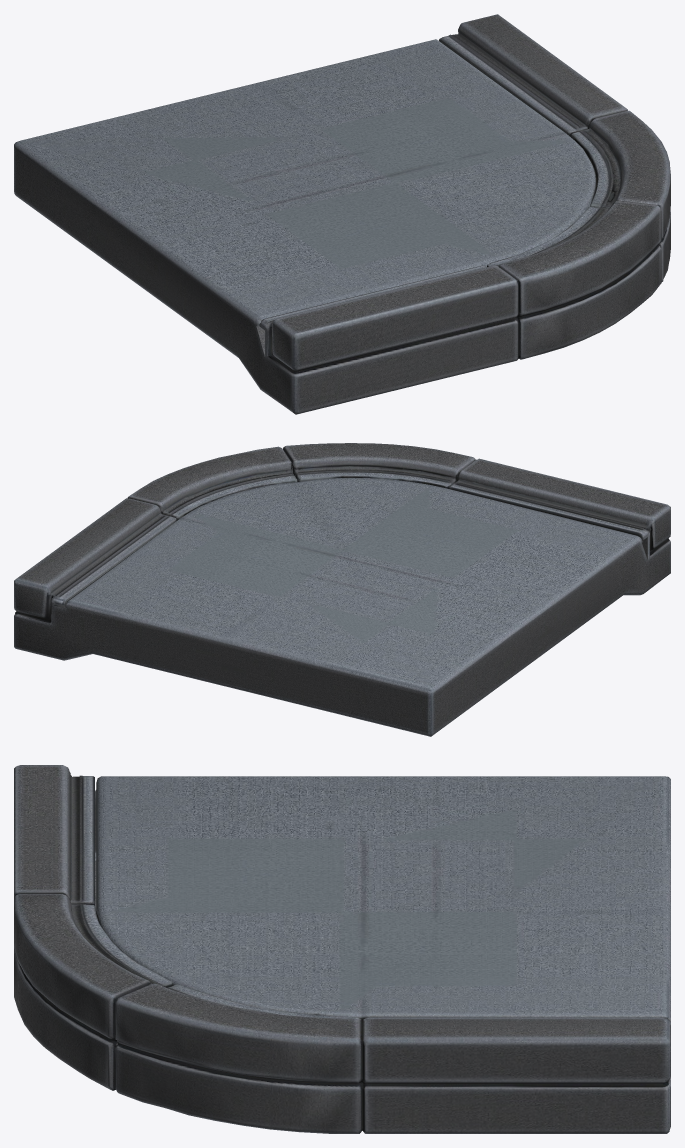
File: tripo_convert_464a7855-d44e-4226-bc57-d2467a083334.fbx
3 views of the same model, one above another, from view 1: azimuth 30°, elevation 25°; view 2: azimuth 150°, elevation 25°; view 3: azimuth 270°, elevation 25° (orthographic). The views are drawn at different scales.
Visible parts, largest first — view 1: tripo_node_464a7855; view 2: tripo_node_464a7855; view 3: tripo_node_464a7855.
Boxes of the visible parts, left/top/right/bottom form: tripo_node_464a7855: left=14, top=14, right=670, bottom=414; tripo_node_464a7855: left=14, top=443, right=670, bottom=736; tripo_node_464a7855: left=14, top=765, right=670, bottom=1133.
Bounding box in the file's own units: 0.998 × 0.1621 × 0.998.
Materials: 1 (1 with a texture image).
